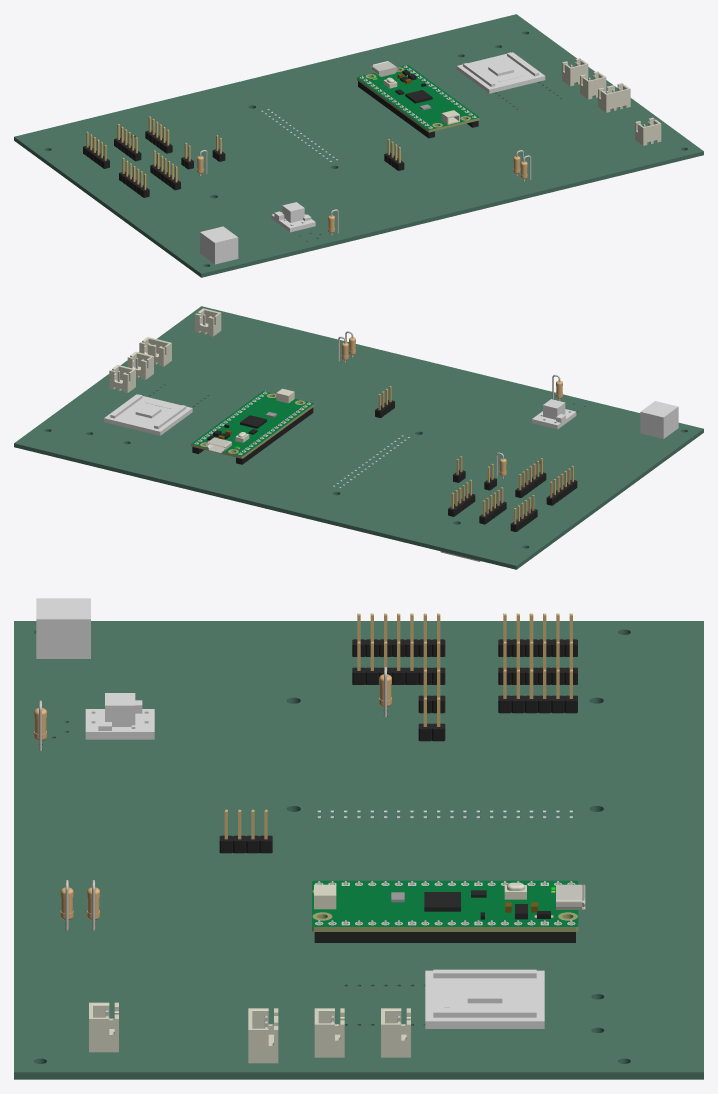
File: cansat_2026_mainboard_kicad9.glb
3 renders of one model, top to bottom at view 1: azimuth 30°, elevation 25°; view 2: azimuth 150°, elevation 25°; view 3: azimuth 270°, elevation 25°, orthographic. The views are drawn at different scales.
Parts seen in each view (by area): view 1: =>[0:1:1:15], RaspberryPi_Pico_H_Module_KiCad, J_MOTDRV1, J_PWR1, MD1, RaspberryPi_Pico_H_Header_DIP-40_H2.54mm_KiCad, J_SERVO1, J_SD1, J_LORA1, J_SEP1, J_IMU1, J_TOF2 (+3 smaller); view 2: =>[0:1:1:15], RaspberryPi_Pico_H_Module_KiCad, J_MOTDRV1, J_PWR1, RaspberryPi_Pico_H_Header_DIP-40_H2.54mm_KiCad, MD1, J_SERVO1, J_LORA1, J_SD1, J_SEP1, J_MOTOR_A, J_TOF2 (+3 smaller); view 3: =>[0:1:1:15], RaspberryPi_Pico_H_Module_KiCad, J_MOTDRV1, RaspberryPi_Pico_H_Header_DIP-40_H2.54mm_KiCad, J_PWR1, MD1, J_LORA1, J_IMU1, J_SD1, J_TOF1, J_TOF2, J_SERVO1 (+4 smaller).
Boxes of the visible parts, bbox=[...] form: =>[0:1:1:15]: bbox=[14, 14, 703, 277]; RaspberryPi_Pico_H_Module_KiCad: bbox=[356, 61, 479, 132]; J_MOTDRV1: bbox=[456, 52, 545, 93]; J_PWR1: bbox=[200, 226, 238, 264]; MD1: bbox=[271, 202, 315, 232]; RaspberryPi_Pico_H_Header_DIP-40_H2.54mm_KiCad: bbox=[358, 65, 478, 138]; J_SERVO1: bbox=[598, 83, 630, 112]; J_SD1: bbox=[119, 158, 149, 197]; J_LORA1: bbox=[150, 150, 180, 190]; J_SEP1: bbox=[635, 117, 661, 145]; J_IMU1: bbox=[145, 116, 172, 153]; J_TOF2: bbox=[114, 124, 141, 161]; =>[0:1:1:15]: bbox=[14, 306, 703, 569]; RaspberryPi_Pico_H_Module_KiCad: bbox=[191, 388, 314, 458]; J_MOTDRV1: bbox=[104, 394, 192, 435]; J_PWR1: bbox=[640, 401, 678, 438]; RaspberryPi_Pico_H_Header_DIP-40_H2.54mm_KiCad: bbox=[192, 391, 313, 464]; MD1: bbox=[532, 399, 576, 429]; J_SERVO1: bbox=[139, 337, 171, 366]; J_LORA1: bbox=[515, 458, 546, 497]; J_SD1: bbox=[546, 466, 577, 505]; J_SEP1: bbox=[195, 308, 221, 336]; J_MOTOR_A: bbox=[109, 365, 135, 392]; J_TOF2: bbox=[479, 487, 506, 524]; =>[0:1:1:15]: bbox=[14, 621, 703, 1079]; RaspberryPi_Pico_H_Module_KiCad: bbox=[312, 880, 585, 931]; J_MOTDRV1: bbox=[425, 969, 544, 1028]; RaspberryPi_Pico_H_Header_DIP-40_H2.54mm_KiCad: bbox=[314, 881, 575, 942]; J_PWR1: bbox=[36, 598, 90, 658]; MD1: bbox=[85, 693, 154, 739]; J_LORA1: bbox=[352, 641, 445, 684]; J_IMU1: bbox=[498, 669, 577, 713]; J_SD1: bbox=[352, 613, 445, 656]; J_TOF1: bbox=[498, 613, 577, 656]; J_TOF2: bbox=[498, 641, 577, 684]; J_SERVO1: bbox=[248, 1008, 278, 1063].
Bounding box in the file's own units: 0.2045 × 0.0287 × 0.1321.
